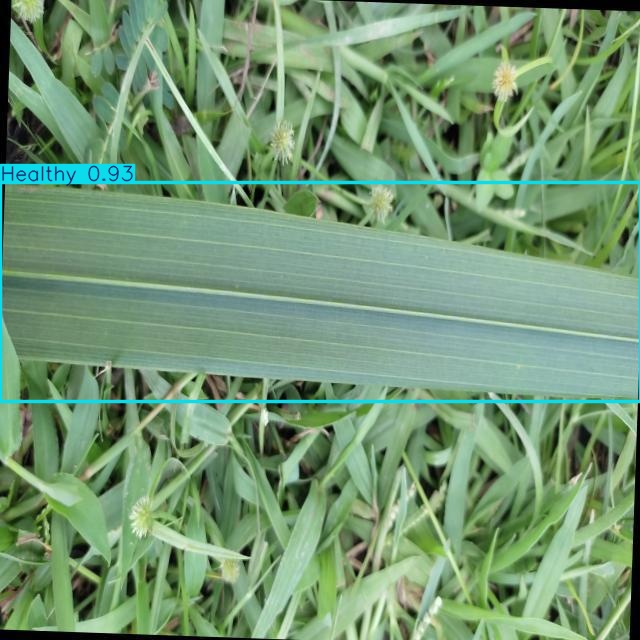Healthy: (0, 183, 640, 402)
